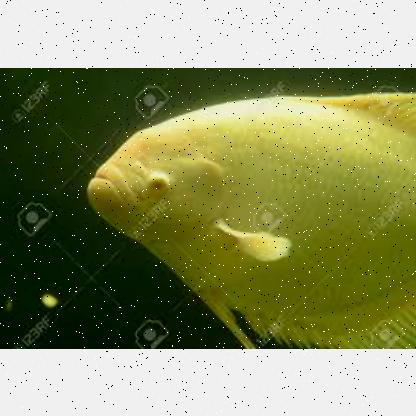gurame: (85, 95, 415, 344)
